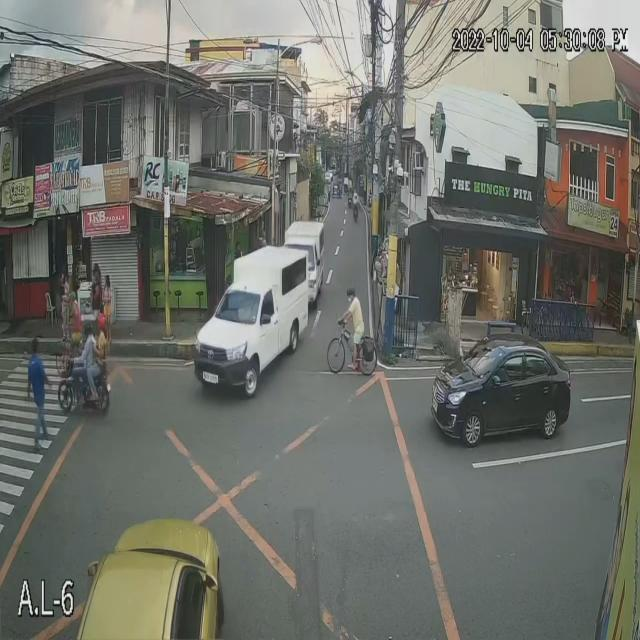half: (80, 317, 96, 336), (96, 311, 105, 333)
